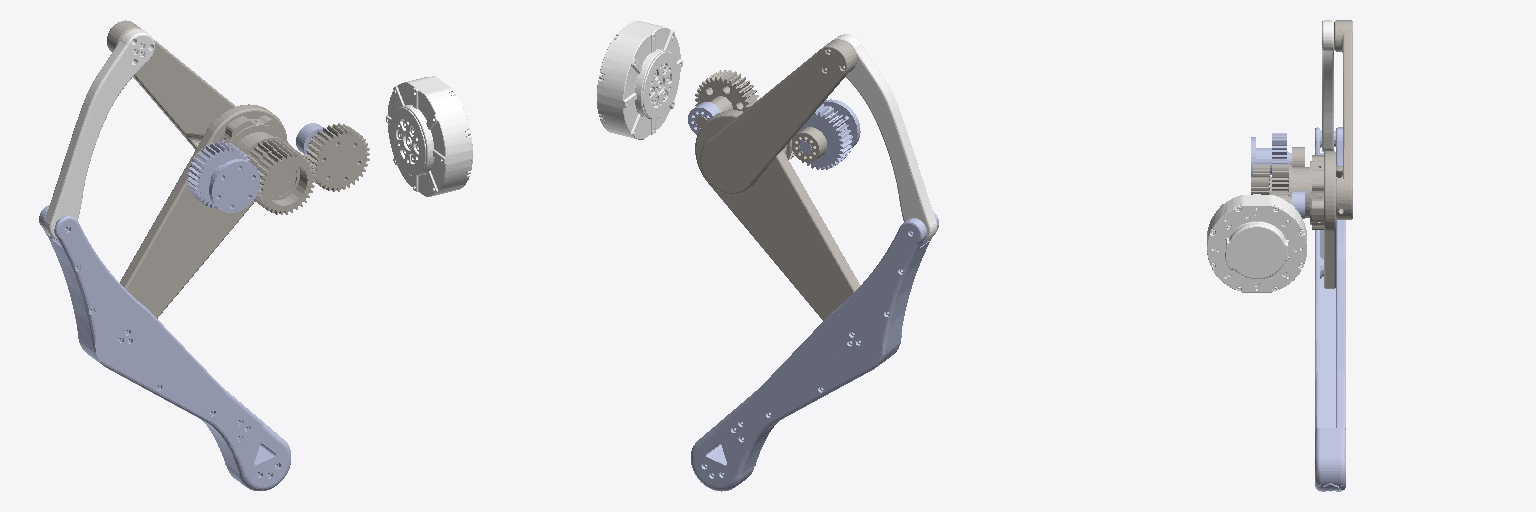
The robot description file, URDF, robot "mos":
<?xml version="1.0" encoding="utf-8"?>
<!-- This URDF was automatically created by SolidWorks to URDF Exporter! Originally created by Stephen Brawner (brawner@gmail.com) 
     Commit Version: 1.6.0-4-g7f85cfe  Build Version: 1.6.7995.38578
     For more information, please see http://wiki.ros.org/sw_urdf_exporter -->
<robot
  name="mos">
  <link
    name="hip_motor">
    <inertial>
      <origin
        xyz="0.0194551261869284 -0.0930459309938847 -0.0556146225087043"
        rpy="0 0 0" />
      <mass
        value="0.193691933258787" />
      <inertia
        ixx="0.000212643438550045"
        ixy="2.52842936395251E-08"
        ixz="-3.06353262610684E-08"
        iyy="0.000111361590772375"
        iyz="-3.6293369034784E-07"
        izz="0.000115174940649883" />
    </inertial>
    <visual>
      <origin
        xyz="0 0 0"
        rpy="0 0 0" />
      <geometry>
        <mesh
          filename="package://mos/meshes/hip_motor.STL" />
      </geometry>
      <material
        name="">
        <color
          rgba="1 1 1 1" />
      </material>
    </visual>
    <collision>
      <origin
        xyz="0 0 0"
        rpy="0 0 0" />
      <geometry>
        <mesh
          filename="package://mos/meshes/hip_motor.STL" />
      </geometry>
    </collision>
  </link>
  <link
    name="hip_body">
    <inertial>
      <origin
        xyz="0.113264886696619 -0.010939736154655 0.000155813716184991"
        rpy="0 0 0" />
      <mass
        value="0.955506794003184" />
      <inertia
        ixx="0.000905573001572805"
        ixy="5.947750436196E-08"
        ixz="-1.41358307936407E-07"
        iyy="0.00263152887558251"
        iyz="-3.88325839084184E-07"
        izz="0.0020683447756269" />
    </inertial>
    <visual>
      <origin
        xyz="0 0 0"
        rpy="0 0 0" />
      <geometry>
        <mesh
          filename="package://mos/meshes/hip_body.STL" />
      </geometry>
      <material
        name="">
        <color
          rgba="1 1 1 1" />
      </material>
    </visual>
    <collision>
      <origin
        xyz="0 0 0"
        rpy="0 0 0" />
      <geometry>
        <mesh
          filename="package://mos/meshes/hip_body.STL" />
      </geometry>
    </collision>
  </link>
  <joint
    name="hip_joint"
    type="revolute">
    <origin
      xyz="-0.232 -0.0931137748892993 -0.055517498927173"
      rpy="0 0 0" />
    <parent
      link="hip_motor" />
    <child
      link="hip_body" />
    <axis
      xyz="-1 0 0" />
    <limit
      lower="-0.5"
      upper="0.5"
      effort="0"
      velocity="0" />
  </joint>
  <link
    name="front_gear">
    <inertial>
      <origin
        xyz="-0.0115977379770727 -0.0352783724994292 8.18789480661053E-16"
        rpy="0 0 0" />
      <mass
        value="0.0435777838010683" />
      <inertia
        ixx="9.83324206309477E-06"
        ixy="8.76575456207127E-22"
        ixz="8.15712421136005E-22"
        iyy="1.08486728108915E-05"
        iyz="-8.72979284537759E-22"
        izz="9.83324206309479E-06" />
    </inertial>
    <visual>
      <origin
        xyz="0 0 0"
        rpy="0 0 0" />
      <geometry>
        <mesh
          filename="package://mos/meshes/front_gear.STL" />
      </geometry>
      <material
        name="">
        <color
          rgba="0.776470588235294 0.756862745098039 0.737254901960784 1" />
      </material>
    </visual>
    <collision>
      <origin
        xyz="0 0 0"
        rpy="0 0 0" />
      <geometry>
        <mesh
          filename="package://mos/meshes/front_gear.STL" />
      </geometry>
    </collision>
  </link>
  <joint
    name="font_gear"
    type="revolute">
    <origin
      xyz="0.166000000000002 0.0461500000000001 0"
      rpy="0 0 0" />
    <parent
      link="hip_body" />
    <child
      link="front_gear" />
    <axis
      xyz="0 1 0" />
    <limit
      lower="-0.5"
      upper="0.5"
      effort="0"
      velocity="0" />
  </joint>
  <link
    name="small_shaft">
    <inertial>
      <origin
        xyz="-0.0283638055421658 -0.0151800435668482 0.0331689181534142"
        rpy="0 0 0" />
      <mass
        value="0.171587640340336" />
      <inertia
        ixx="0.000276467644126589"
        ixy="4.64008836214695E-06"
        ixz="0.000195508397636774"
        iyy="0.000443409046409564"
        iyz="-5.41780154781775E-06"
        izz="0.000216606852191212" />
    </inertial>
    <visual>
      <origin
        xyz="0 0 0"
        rpy="0 0 0" />
      <geometry>
        <mesh
          filename="package://mos/meshes/small_shaft.STL" />
      </geometry>
      <material
        name="">
        <color
          rgba="0.776470588235294 0.756862745098039 0.737254901960784 1" />
      </material>
    </visual>
    <collision>
      <origin
        xyz="0 0 0"
        rpy="0 0 0" />
      <geometry>
        <mesh
          filename="package://mos/meshes/small_shaft.STL" />
      </geometry>
    </collision>
  </link>
  <joint
    name="small_shaft"
    type="revolute">
    <origin
      xyz="-0.0500000000000008 0.0409999999999993 -0.0100999999999986"
      rpy="0 0 0" />
    <parent
      link="front_gear" />
    <child
      link="small_shaft" />
    <axis
      xyz="0 -1 0" />
    <limit
      lower="-0.5"
      upper="0.5"
      effort="0"
      velocity="0" />
  </joint>
  <link
    name="shank_link">
    <inertial>
      <origin
        xyz="-0.0389905696407307 -0.0128234649727959 -0.060968573914411"
        rpy="0 0 0" />
      <mass
        value="0.0469428771745656" />
      <inertia
        ixx="0.000107185813033781"
        ixy="-3.20461030869092E-07"
        ixz="-5.18563116705513E-05"
        iyy="0.000135916196790493"
        iyz="-5.01255334428387E-07"
        izz="2.99406147340324E-05" />
    </inertial>
    <visual>
      <origin
        xyz="0 0 0"
        rpy="0 0 0" />
      <geometry>
        <mesh
          filename="package://mos/meshes/shank_link.STL" />
      </geometry>
      <material
        name="">
        <color
          rgba="1 1 1 1" />
      </material>
    </visual>
    <collision>
      <origin
        xyz="0 0 0"
        rpy="0 0 0" />
      <geometry>
        <mesh
          filename="package://mos/meshes/shank_link.STL" />
      </geometry>
    </collision>
  </link>
  <joint
    name="shank_joint"
    type="revolute">
    <origin
      xyz="-0.101813725620471 -0.00600440931190334 0.118695762806014"
      rpy="0 0 0" />
    <parent
      link="small_shaft" />
    <child
      link="shank_link" />
    <axis
      xyz="0 1 0" />
    <limit
      lower="-0.5"
      upper="0.5"
      effort="0"
      velocity="0" />
  </joint>
  <link
    name="rear_gear">
    <inertial>
      <origin
        xyz="0.00948406530882989 -0.0281318633902966 6.38378239159465E-16"
        rpy="0 0 0" />
      <mass
        value="0.0532897762392778" />
      <inertia
        ixx="1.1103625915427E-05"
        ixy="8.91828107959389E-21"
        ixz="1.73453473662548E-21"
        iyy="1.30869771246257E-05"
        iyz="-2.72849225999803E-21"
        izz="1.1103625915427E-05" />
    </inertial>
    <visual>
      <origin
        xyz="0 0 0"
        rpy="0 0 0" />
      <geometry>
        <mesh
          filename="package://mos/meshes/rear_gear.STL" />
      </geometry>
      <material
        name="">
        <color
          rgba="0.792156862745098 0.819607843137255 0.933333333333333 1" />
      </material>
    </visual>
    <collision>
      <origin
        xyz="0 0 0"
        rpy="0 0 0" />
      <geometry>
        <mesh
          filename="package://mos/meshes/rear_gear.STL" />
      </geometry>
    </collision>
  </link>
  <joint
    name="rear_gear"
    type="revolute">
    <origin
      xyz="0.066 0.04615 0"
      rpy="0 0 0" />
    <parent
      link="hip_body" />
    <child
      link="rear_gear" />
    <axis
      xyz="0 1 0" />
    <limit
      lower="-0.5"
      upper="0.5"
      effort="0"
      velocity="0" />
  </joint>
  <link
    name="large_shaft_thigh">
    <inertial>
      <origin
        xyz="-0.0313750870206426 -0.0064632093424145 -0.0357057922216403"
        rpy="0 0 0" />
      <mass
        value="0.218415891158775" />
      <inertia
        ixx="0.000414517155980149"
        ixy="9.59964868887756E-06"
        ixz="-0.000287128133438103"
        iyy="0.000728917927475938"
        iyz="1.09246934672718E-05"
        izz="0.000340058948918026" />
    </inertial>
    <visual>
      <origin
        xyz="0 0 0"
        rpy="0 0 0" />
      <geometry>
        <mesh
          filename="package://mos/meshes/large_shaft_thigh.STL" />
      </geometry>
      <material
        name="">
        <color
          rgba="0.776470588235294 0.756862745098039 0.737254901960784 1" />
      </material>
    </visual>
    <collision>
      <origin
        xyz="0 0 0"
        rpy="0 0 0" />
      <geometry>
        <mesh
          filename="package://mos/meshes/large_shaft_thigh.STL" />
      </geometry>
    </collision>
  </link>
  <joint
    name="large_shaft_thigh"
    type="revolute">
    <origin
      xyz="0.0500000000000003 0.022 -0.0101000000000003"
      rpy="0 0 0" />
    <parent
      link="rear_gear" />
    <child
      link="large_shaft_thigh" />
    <axis
      xyz="0 -1 0" />
    <limit
      lower="-0.5"
      upper="0.5"
      effort="0"
      velocity="0" />
  </joint>
  <link
    name="shank">
    <inertial>
      <origin
        xyz="0.0454200076937986 -0.0140210809709113 -0.0432126494263227"
        rpy="0 0 0" />
      <mass
        value="0.286222521216194" />
      <inertia
        ixx="0.000792153683068097"
        ixy="-8.0507838236492E-07"
        ixz="0.000583963212768704"
        iyy="0.00130942149479999"
        iyz="9.17368606622592E-07"
        izz="0.00053283634405178" />
    </inertial>
    <visual>
      <origin
        xyz="0 0 0"
        rpy="0 0 0" />
      <geometry>
        <mesh
          filename="package://mos/meshes/shank.STL" />
      </geometry>
      <material
        name="">
        <color
          rgba="0.792156862745098 0.819607843137255 0.933333333333333 1" />
      </material>
    </visual>
    <collision>
      <origin
        xyz="0 0 0"
        rpy="0 0 0" />
      <geometry>
        <mesh
          filename="package://mos/meshes/shank.STL" />
      </geometry>
    </collision>
  </link>
  <joint
    name="shank"
    type="revolute">
    <origin
      xyz="-0.115405435556015 0.0174955906880945 -0.138872325524697"
      rpy="0 0 0" />
    <parent
      link="large_shaft_thigh" />
    <child
      link="shank" />
    <axis
      xyz="0 -1 0" />
    <limit
      lower="-0.5"
      upper="0.5"
      effort="0"
      velocity="0" />
  </joint>
</robot>

--- What the picture shows (computed from the rendered views, not written in the file) ---
3 views of the same robot in one strip: view 1: azimuth 30°, elevation 25°; view 2: azimuth 150°, elevation 25°; view 3: azimuth 270°, elevation 25° (orthographic).
Model mos with 8 links and 7 joints (7 revolute), rooted at hip_motor, posed all joints at 0.
Visible links, largest first — view 1: shank, large_shaft_thigh, small_shaft, hip_motor, shank_link, rear_gear, front_gear; view 2: shank, large_shaft_thigh, small_shaft, hip_motor, shank_link, rear_gear, front_gear; view 3: hip_motor, shank, large_shaft_thigh, small_shaft, shank_link, rear_gear, front_gear.
Boxes of the visible links, x1,y1,x2,y2 form: shank: [39, 205, 290, 490]; large_shaft_thigh: [120, 104, 296, 318]; small_shaft: [107, 20, 315, 214]; hip_motor: [386, 76, 472, 196]; shank_link: [44, 29, 154, 239]; rear_gear: [187, 123, 322, 212]; front_gear: [190, 123, 369, 191]; shank: [691, 212, 938, 491]; large_shaft_thigh: [695, 110, 860, 320]; small_shaft: [700, 39, 856, 193]; hip_motor: [597, 21, 682, 139]; shank_link: [832, 34, 936, 241]; rear_gear: [688, 99, 860, 169]; front_gear: [695, 70, 826, 162]; hip_motor: [1207, 194, 1306, 292]; shank: [1315, 127, 1345, 491]; large_shaft_thigh: [1272, 151, 1335, 288]; small_shaft: [1253, 20, 1352, 219]; shank_link: [1322, 20, 1333, 151]; rear_gear: [1251, 133, 1304, 218]; front_gear: [1251, 147, 1304, 203].
Size in the robot's own frame: 0.3455 by 0.1404 by 0.4407 metres.
7 mesh visuals loaded from 8 distinct referenced files (7 binary STL); not drawn: 1 (reference not matched to a file when rendering).
